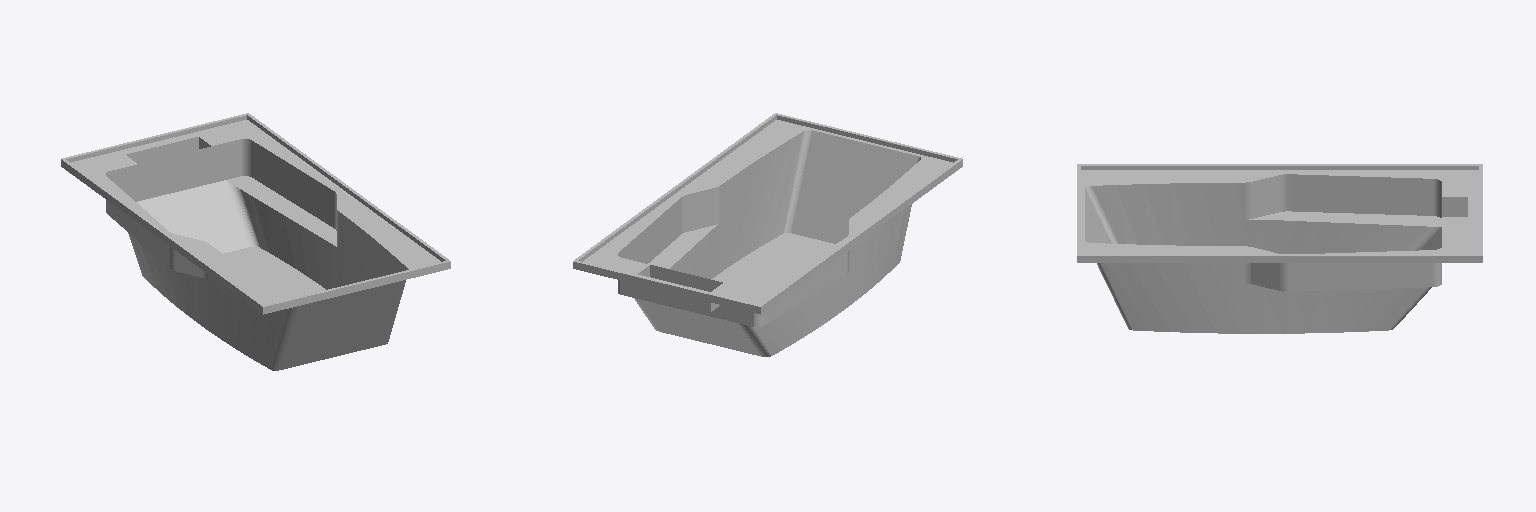
Rendered from SHANTI_BLANCA.obj.
3 views of the same model, side by side, from view 1: azimuth 30°, elevation 25°; view 2: azimuth 150°, elevation 25°; view 3: azimuth 270°, elevation 25° (orthographic).
Visible parts, largest first — view 1: Mesh1 Group1 Model; view 2: Mesh1 Group1 Model; view 3: Mesh1 Group1 Model.
Boxes of the visible parts, x1,y1,x2,y2 form: Mesh1 Group1 Model: [61, 113, 450, 370]; Mesh1 Group1 Model: [573, 113, 962, 356]; Mesh1 Group1 Model: [1077, 164, 1482, 333].
Bounding box in the file's own units: 90 × 42 × 168.